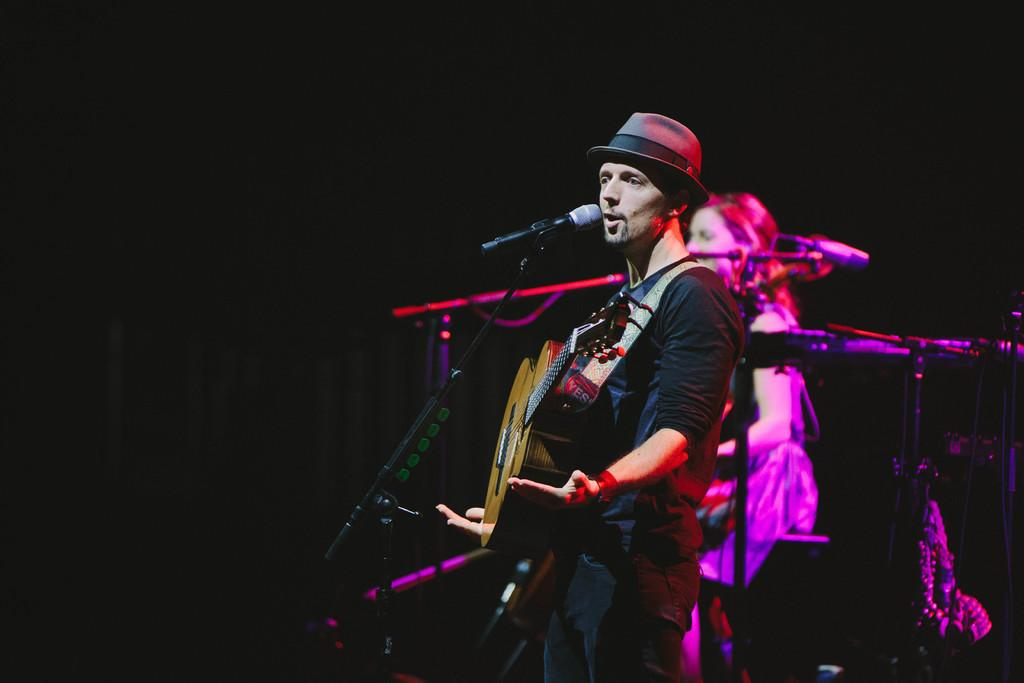Hat: (589, 109, 713, 208)
